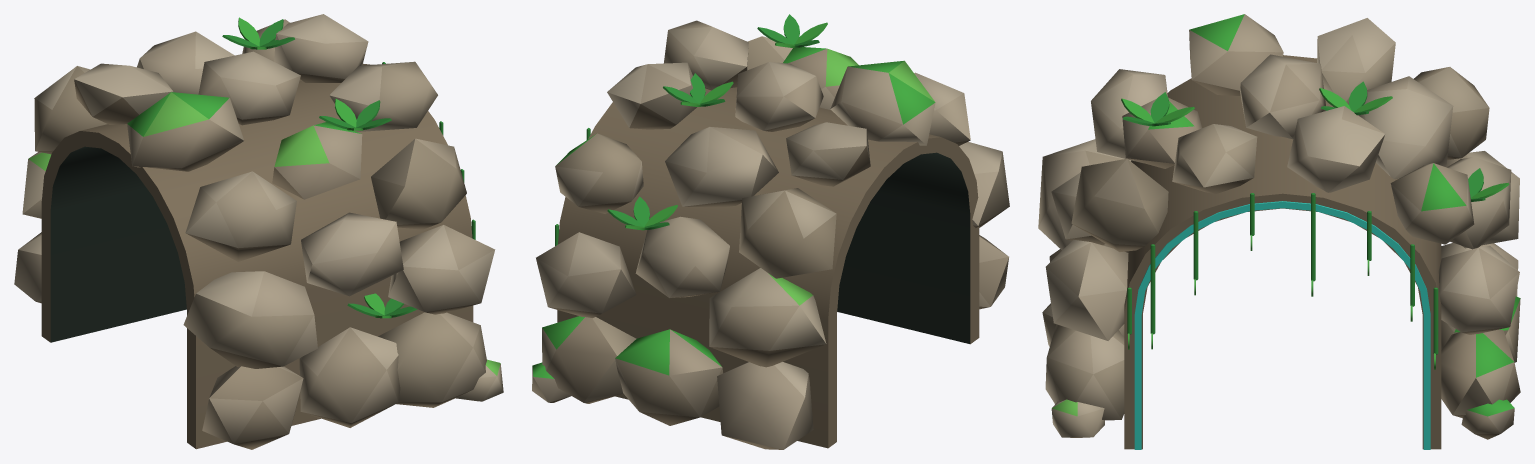
File: tropic-cave.glb
The picture shows the model from 3 angles, left to right: view 1: azimuth 30°, elevation 25°; view 2: azimuth 150°, elevation 25°; view 3: azimuth 270°, elevation 25°; orthographic projection. The views are drawn at different scales.
Visible parts, largest first — view 1: tropic-cave; view 2: tropic-cave; view 3: tropic-cave.
Boxes of the visible parts, x1,y1,x2,y2 form: tropic-cave: [14, 14, 503, 449]; tropic-cave: [532, 14, 1009, 449]; tropic-cave: [1038, 14, 1520, 449].
Bounding box in the file's own units: 3 × 2.98 × 4.14.
